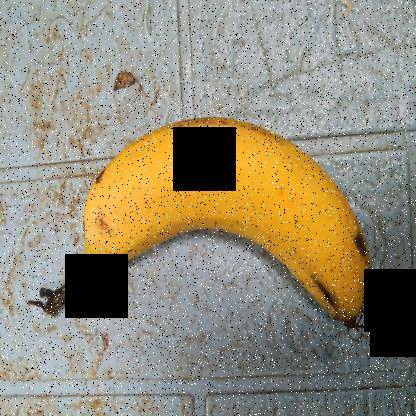freshripe: (74, 104, 372, 340)
